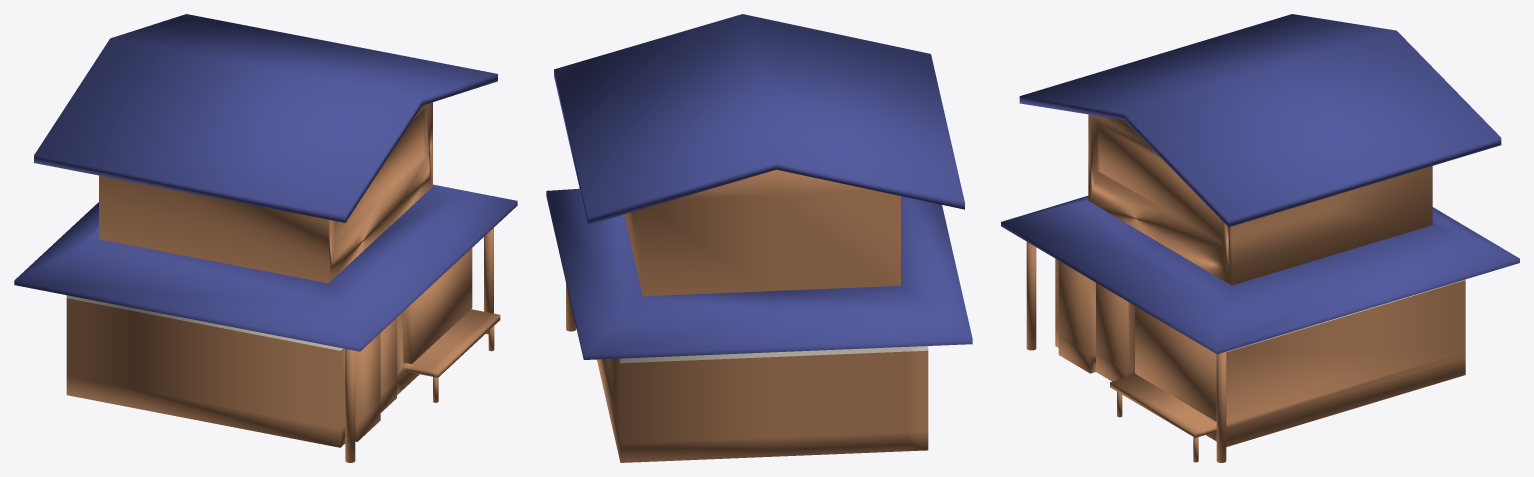
File: 061_古民家015.glb
3 views of the same model, side by side, from view 1: azimuth 30°, elevation 25°; view 2: azimuth 150°, elevation 25°; view 3: azimuth 270°, elevation 25° (orthographic). The views are drawn at different scales.
Parts seen in each view (by area): view 1: 立方体099_1, 立方体099_3, 立方体099_4, 立方体099, 立方体099_2; view 2: 立方体099_1, 立方体099_3, 立方体099_2; view 3: 立方体099_1, 立方体099_3, 立方体099_4, 立方体099.
Boxes of the visible parts, x1=… form: 立方体099_1: x1=14, y1=14, x2=517, y2=351; 立方体099_3: x1=66, y1=102, x2=500, y2=447; 立方体099_4: x1=335, y1=111, x2=472, y2=441; 立方体099: x1=345, y1=228, x2=494, y2=462; 立方体099_2: x1=66, y1=295, x2=342, y2=350; 立方体099_1: x1=546, y1=14, x2=972, y2=359; 立方体099_3: x1=597, y1=169, x2=928, y2=462; 立方体099_2: x1=619, y1=346, x2=928, y2=363; 立方体099_1: x1=1001, y1=14, x2=1519, y2=354; 立方体099_3: x1=1055, y1=114, x2=1465, y2=446; 立方体099_4: x1=1058, y1=124, x2=1222, y2=421; 立方体099: x1=1026, y1=242, x2=1226, y2=462.
Size of the model in its own units: 4.98 by 3.16 by 4.98.
